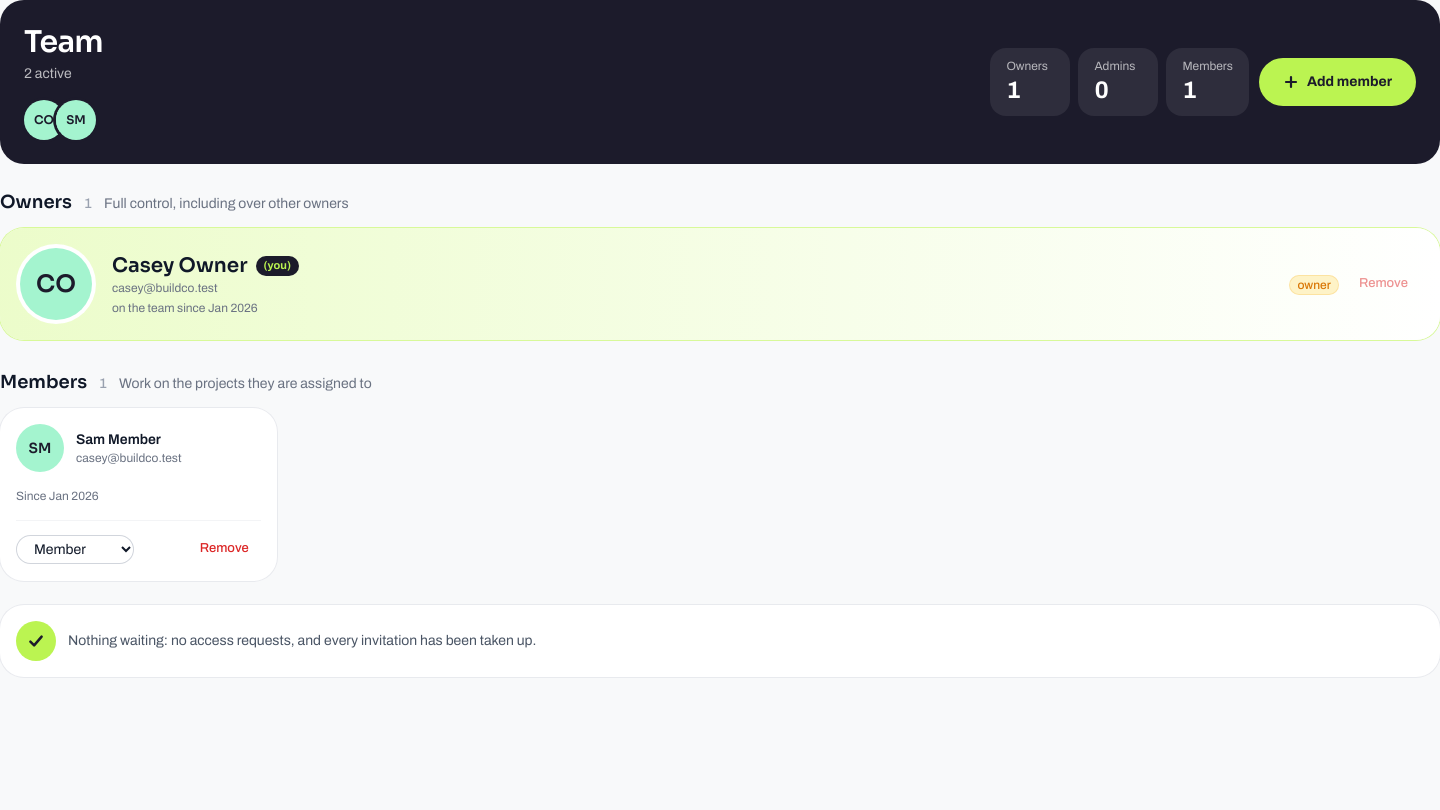
Scenario: TeamPage › removal › reports a refusal from the server
Expected: the text "Sam Member" is shown, [76, 430, 161, 450]
Click the button "Remove" below "Sam Member" at [224, 549], box [188, 533, 261, 565]
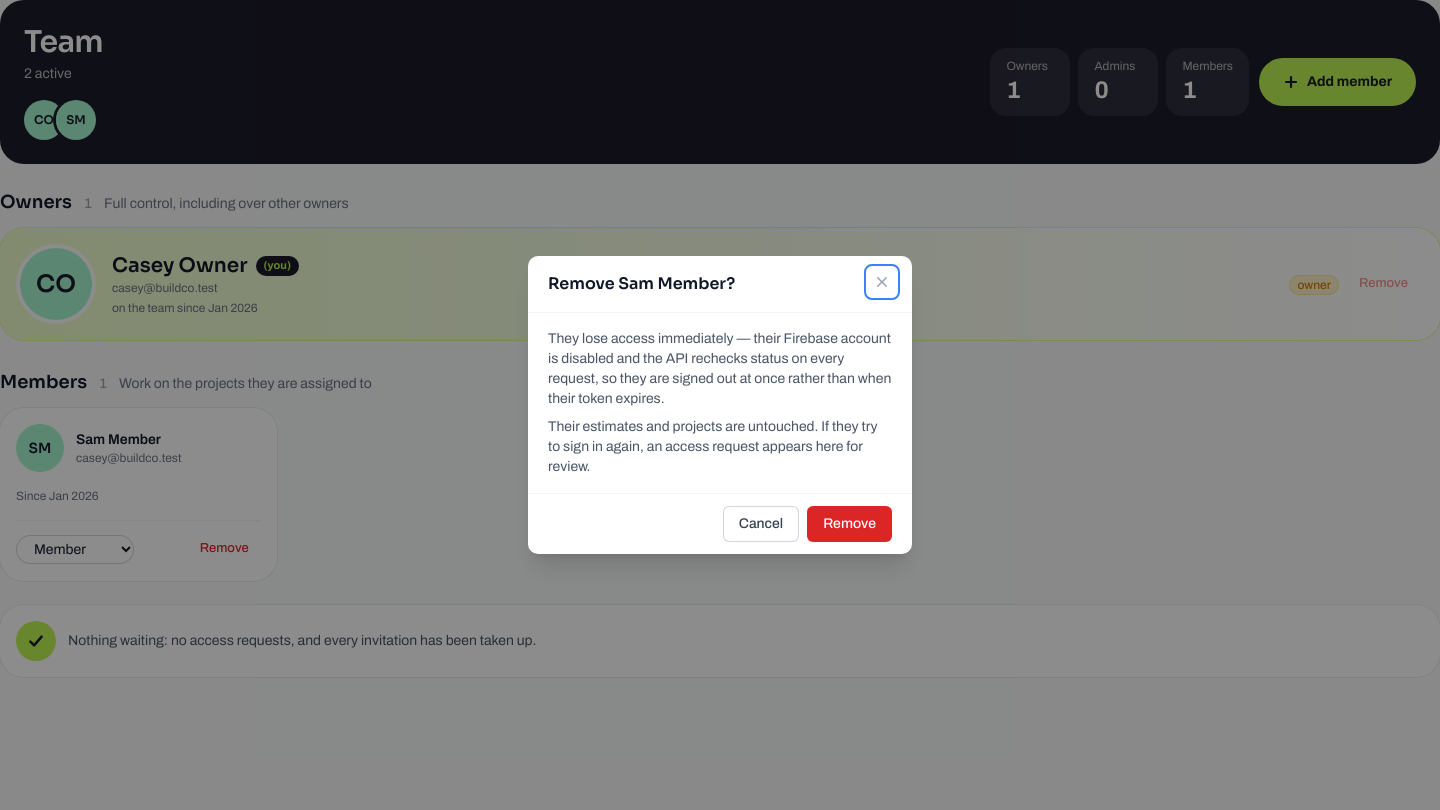
Click the button "Remove" at [850, 524], box [807, 506, 892, 542]
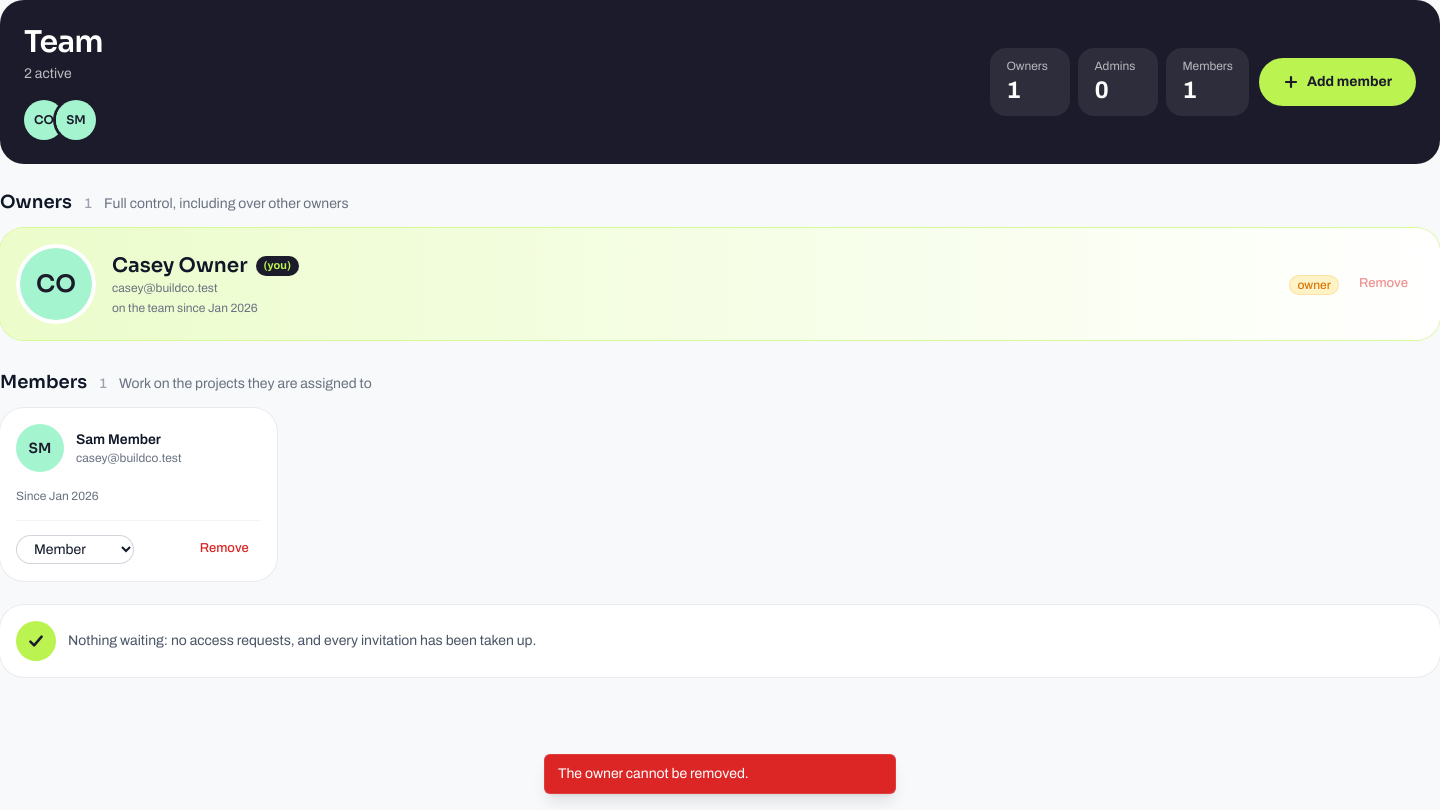
Expected: the text "The owner cannot be removed." is shown, [544, 754, 896, 794]
